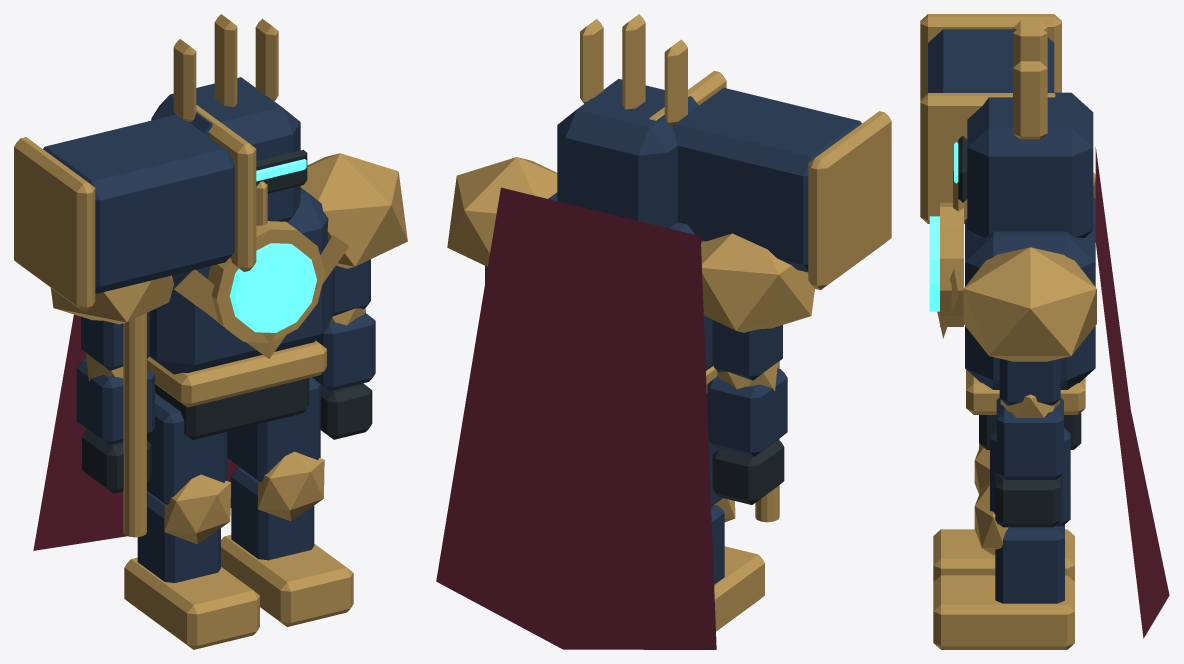
Rendered from iron-chancellor.glb.
3 views of the same model, side by side, from view 1: azimuth 30°, elevation 25°; view 2: azimuth 150°, elevation 25°; view 3: azimuth 270°, elevation 25° (orthographic). The views are drawn at different scales.
Visible parts, largest first — view 1: BossHammer head, BossHammer end, BossCape, BossBreastplate, BossShoulder.001, BossBoot, BossBoot.001, BossHelmet, BossCore, BossBelt, BossHammer shaft, BossThigh (+21 smaller); view 2: BossCape, BossHammer head, BossHelmet, BossHammer end, BossShoulder, BossShoulder.001, BossForearm, BossFist, BossUpper arm, BossBoot, BossCrown.001, BossCrown (+6 smaller); view 3: BossHelmet, BossShoulder.001, BossBoot.001, BossCape, BossBreastplate, BossHammer head, BossHammer end.001, BossShin.001, BossForearm.001, BossHammer end, BossFist.001, BossBoot (+12 smaller).
Boxes of the visible parts, x1,y1,x2,y2 form: BossHammer head: [43, 114, 234, 293]; BossHammer end: [14, 137, 95, 311]; BossCape: [33, 314, 239, 550]; BossBreastplate: [149, 187, 332, 374]; BossShoulder.001: [300, 153, 407, 268]; BossBoot: [124, 557, 259, 649]; BossBoot.001: [221, 535, 353, 626]; BossHelmet: [151, 77, 300, 221]; BossCore: [229, 243, 316, 332]; BossBelt: [147, 341, 326, 407]; BossHammer shaft: [123, 313, 146, 537]; BossThigh: [147, 393, 227, 504]; BossCape: [436, 187, 716, 649]; BossHammer head: [673, 87, 861, 272]; BossHelmet: [557, 79, 698, 228]; BossHammer end: [808, 111, 891, 289]; BossShoulder: [701, 233, 814, 332]; BossShoulder.001: [447, 157, 557, 266]; BossForearm: [707, 368, 787, 456]; BossFist: [712, 439, 784, 504]; BossUpper arm: [712, 319, 782, 380]; BossBoot: [714, 546, 764, 631]; BossCrown.001: [622, 14, 645, 109]; BossCrown: [664, 39, 687, 125]; BossHelmet: [967, 92, 1093, 237]; BossShoulder.001: [963, 247, 1096, 361]; BossBoot.001: [933, 575, 1074, 649]; BossCape: [1095, 147, 1169, 638]; BossBreastplate: [965, 197, 1095, 389]; BossHammer head: [928, 29, 1054, 92]; BossHammer end.001: [920, 93, 1055, 223]; BossShin.001: [995, 525, 1064, 603]; BossForearm.001: [996, 398, 1063, 479]; BossHammer end: [920, 14, 1061, 99]; BossFist.001: [995, 470, 1060, 527]; BossBoot: [933, 529, 1074, 581].
Bounding box in the file's own units: 2.79 × 4.16 × 1.6.
